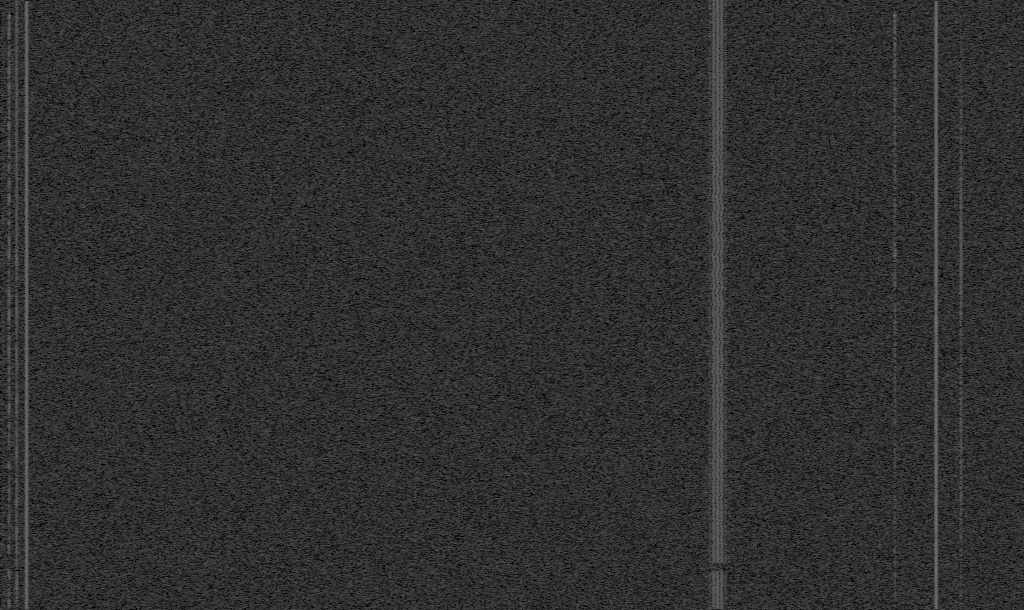wv_am: (933, 1, 939, 609), (24, 1, 29, 609), (14, 1, 19, 609)
wv_lsb: (958, 127, 964, 532), (958, 33, 963, 126), (958, 533, 964, 609), (954, 390, 958, 437), (954, 485, 958, 508), (954, 514, 958, 535), (954, 464, 958, 484), (954, 443, 958, 463), (954, 576, 958, 595), (959, 14, 963, 32), (954, 536, 958, 551), (954, 79, 958, 94), (954, 596, 958, 609), (954, 33, 958, 42), (955, 148, 958, 160), (955, 124, 958, 134), (955, 114, 958, 123), (954, 563, 958, 569), (954, 556, 958, 562), (954, 378, 958, 384), (954, 570, 958, 575), (954, 100, 958, 105), (954, 53, 958, 58), (954, 438, 958, 442), (955, 106, 958, 111), (955, 46, 958, 51), (954, 25, 958, 28), (955, 20, 958, 24), (954, 552, 958, 555), (954, 386, 958, 389), (955, 137, 958, 141), (954, 70, 958, 73)
wv_usb: (6, 8, 12, 267), (6, 268, 12, 450), (892, 6, 898, 168), (892, 169, 898, 296), (892, 491, 898, 588), (892, 299, 898, 396), (6, 472, 12, 554), (892, 429, 898, 490), (6, 569, 12, 609), (1, 289, 6, 323), (1, 11, 6, 40), (892, 397, 898, 419), (6, 451, 12, 471), (1, 324, 6, 343), (1, 158, 6, 177), (1, 111, 6, 130), (1, 356, 6, 370), (1, 213, 6, 227), (1, 381, 6, 394), (1, 135, 6, 148), (1, 344, 6, 355), (2, 180, 5, 198), (1, 87, 5, 100), (893, 589, 897, 602), (1, 459, 5, 471), (892, 420, 898, 428), (1, 599, 5, 609), (1, 481, 5, 491), (1, 256, 5, 265), (1, 101, 5, 110), (1, 77, 5, 86), (1, 534, 6, 541), (1, 50, 5, 58), (1, 69, 5, 76), (2, 589, 5, 598), (2, 417, 5, 426), (2, 240, 5, 249), (2, 371, 6, 377), (1, 266, 5, 272), (2, 41, 5, 49), (893, 603, 897, 609), (1, 512, 5, 517), (1, 149, 6, 153), (2, 563, 5, 569), (2, 542, 5, 548), (2, 505, 5, 511), (2, 450, 5, 456), (2, 281, 5, 287), (2, 233, 5, 239), (1, 528, 5, 532), (2, 520, 5, 525), (2, 250, 5, 255), (2, 207, 5, 212), (1, 154, 6, 157), (1, 131, 6, 134), (2, 576, 5, 580), (2, 497, 5, 501), (2, 436, 5, 440), (2, 427, 5, 431), (2, 399, 5, 403), (1, 200, 5, 203), (2, 585, 5, 588), (2, 549, 5, 552), (2, 477, 5, 480), (2, 446, 5, 449), (2, 413, 5, 416), (2, 409, 5, 412), (2, 395, 5, 398), (2, 273, 5, 276), (2, 63, 5, 66)
wv_wbfm: (704, 0, 732, 563), (705, 571, 731, 609)
